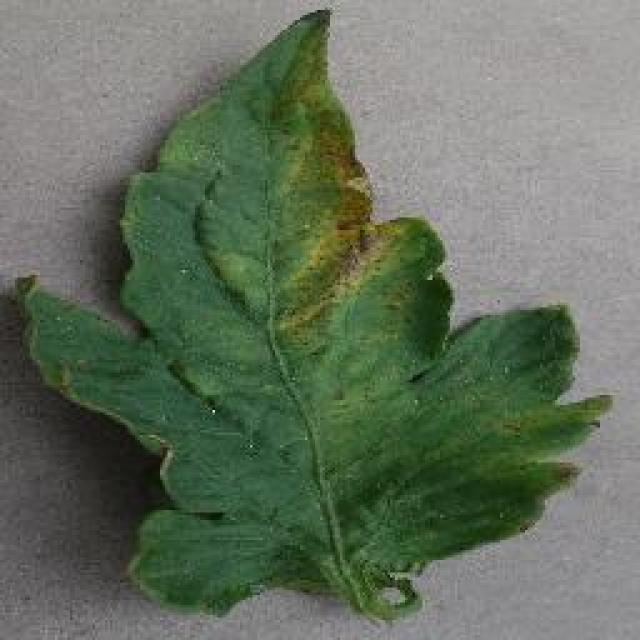Tomato___Bacterial_spot: (5, 7, 620, 625)
